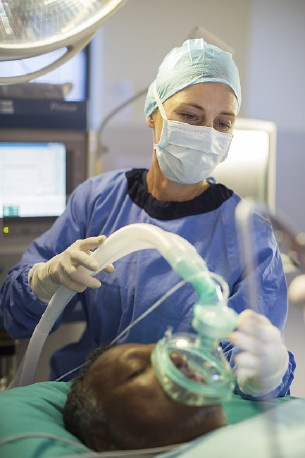Mask: (158, 100, 241, 182)
